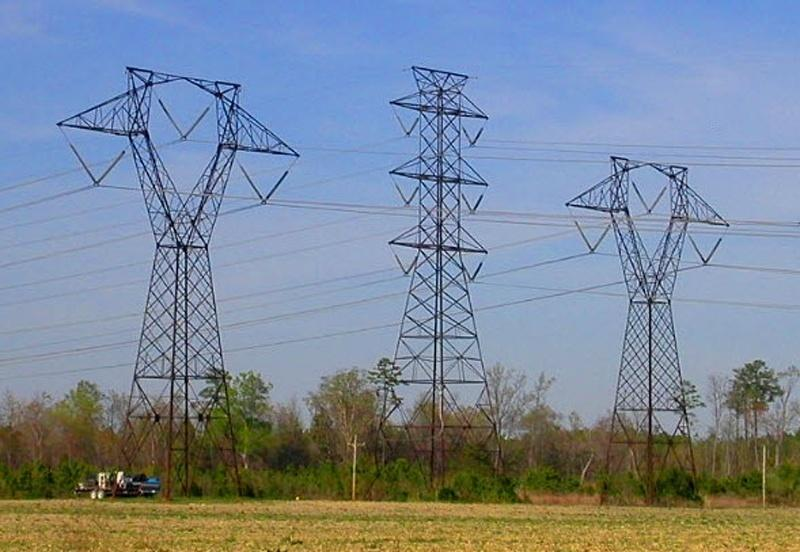power_tower: (56, 64, 302, 498), (564, 154, 730, 507), (371, 65, 509, 476)
